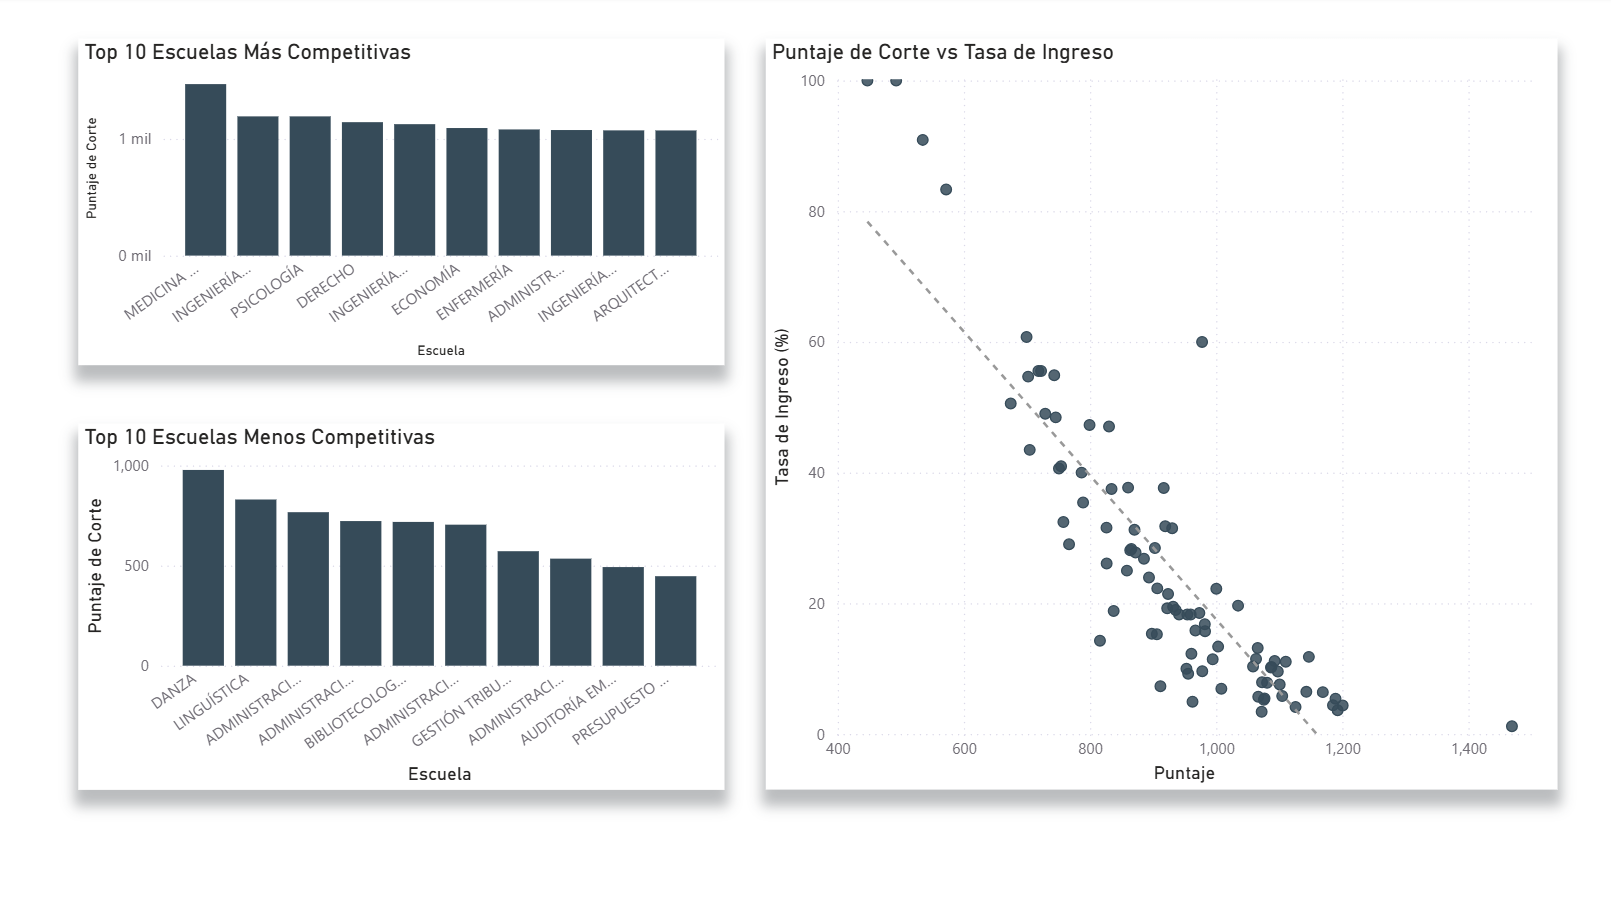

Layout of this report page (visuals, bound fields, positions):
{"tool":"powerbi","page":{"name":"¿Qué carrera elegir? ","canvas":[1280,720],"ordinal":1},"visuals":[{"type":"columnChart","title":"Top 10 Escuelas Más Competitivas","fields":{"Y":["Max(df_scatter.puntaje)"],"Category":["df_scatter.escuela"]},"box":[67.8,33.9,508.2,256.7],"z":0},{"type":"columnChart","title":"Top 10 Escuelas Menos Competitivas","fields":{"Category":["df_scatter.escuela"],"Y":["Min(df_scatter.puntaje)"]},"box":[67.4,336,508.1,288.4],"z":1000},{"type":"scatterChart","title":"Puntaje de Corte vs Tasa de Ingreso","fields":{"X":["df_scatter.puntaje"],"Y":["df_scatter.Tasa Ingreso Escuela %"]},"box":[608.1,33.7,622.1,590.7],"z":2000}]}

Visuals, with their boxes in screenshot pixels (x1, y1, x2, y2), scaled from the page's 1280x720 canvas onto the 1611x897 screenshot:
"Top 10 Escuelas Más Competitivas" columnChart: 85:42:725:362
"Top 10 Escuelas Menos Competitivas" columnChart: 85:419:724:778
"Puntaje de Corte vs Tasa de Ingreso" scatterChart: 765:42:1548:778
